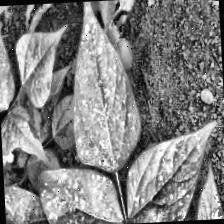Bean Rust: (65, 0, 143, 172), (120, 120, 222, 223), (37, 171, 120, 224)
